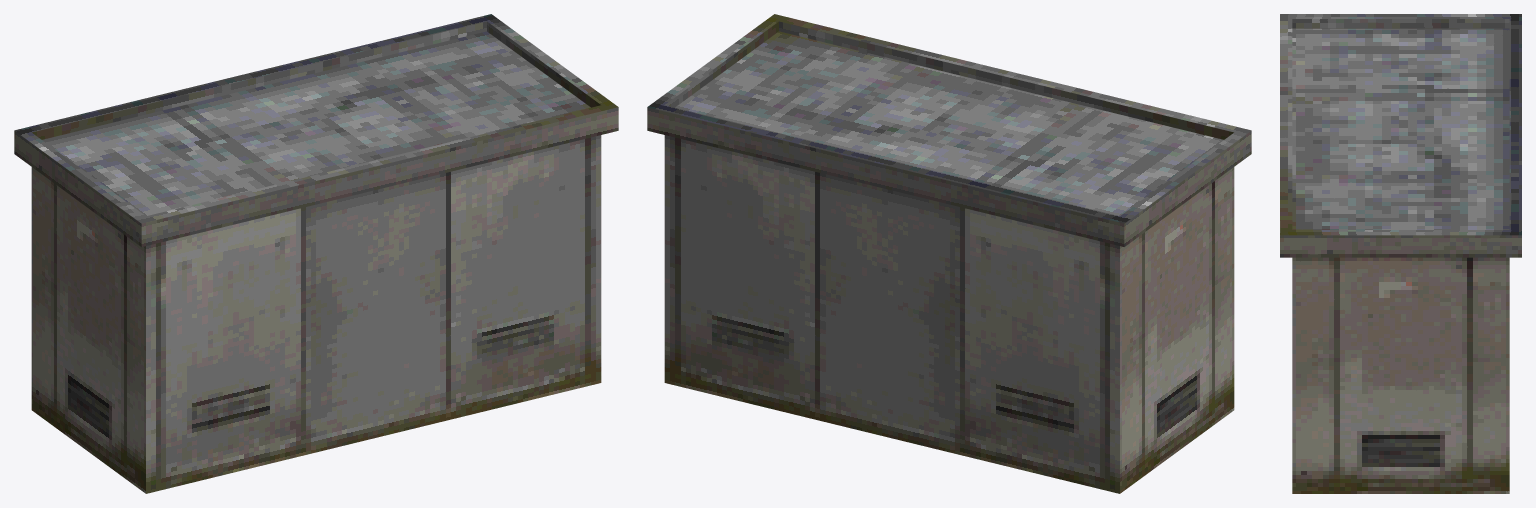
File: building_13.glb
3 renders of one model, left to right at view 1: azimuth 30°, elevation 25°; view 2: azimuth 150°, elevation 25°; view 3: azimuth 270°, elevation 25°, orthographic. The views are drawn at different scales.
Visible parts, largest first — view 1: Building_13; view 2: Building_13; view 3: Building_13.
Part boxes in pixels (x1,y1,x2,y2): Building_13: (14, 14, 618, 493); Building_13: (647, 14, 1251, 493); Building_13: (1280, 14, 1521, 493).
Size of the model in its own units: 7.68 by 4.27 by 3.55.
1 material, 1 textured.
